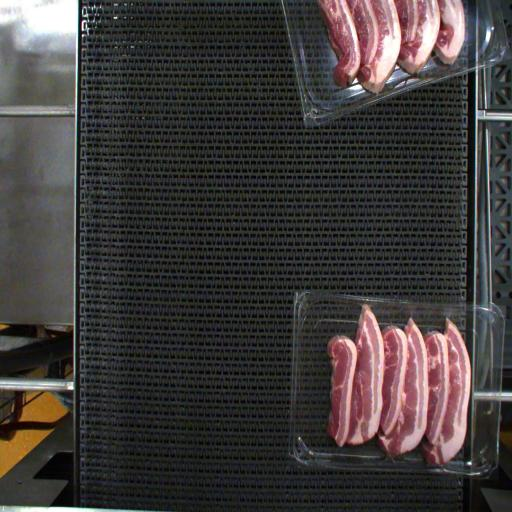packaging-error: (355, 286, 374, 312), (404, 302, 418, 327)
